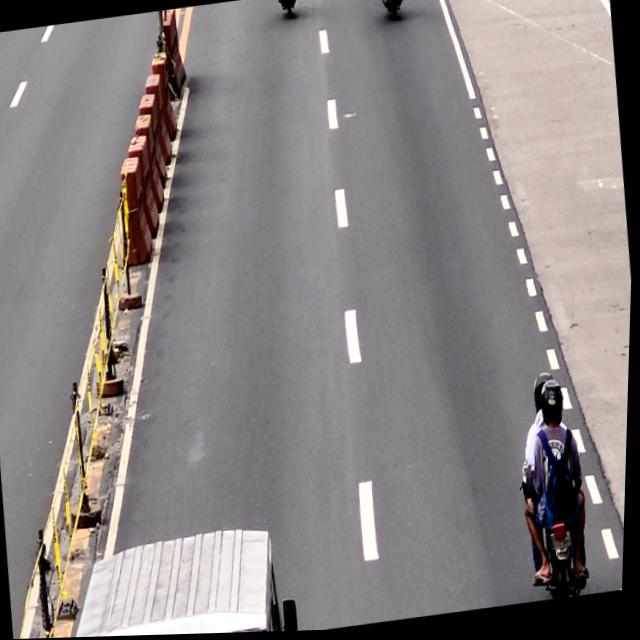Motorcycle: (520, 451, 597, 605)
